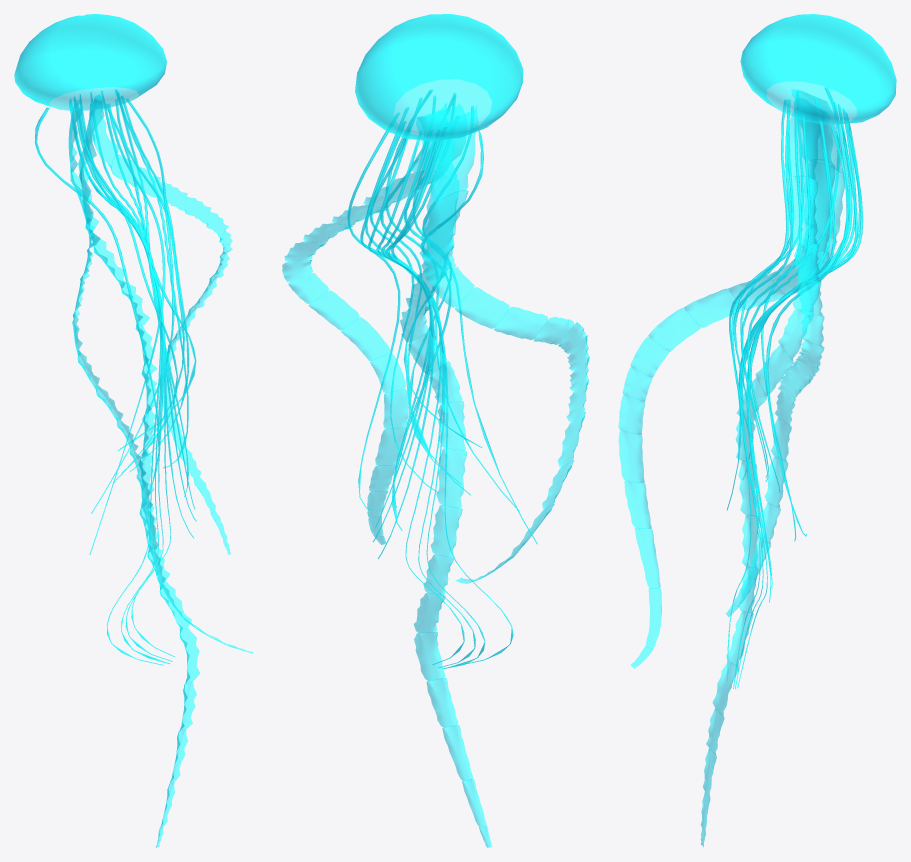
The model's file is prins_jellyfish.glb.
The picture shows the model from 3 angles, left to right: view 1: azimuth 30°, elevation 25°; view 2: azimuth 150°, elevation 25°; view 3: azimuth 270°, elevation 25°; orthographic projection. The views are drawn at different scales.
Parts seen in each view (by area): view 1: Plane.001_Baked; view 2: Plane.001_Baked; view 3: Plane.001_Baked.
Part boxes in pixels (<box>): Plane.001_Baked: <box>14,14,253,847</box>; Plane.001_Baked: <box>282,14,589,847</box>; Plane.001_Baked: <box>618,14,896,847</box>.
Size of the model in its own units: 2066 by 7457 by 2298.
Materials: 1 (1 with a texture image).
